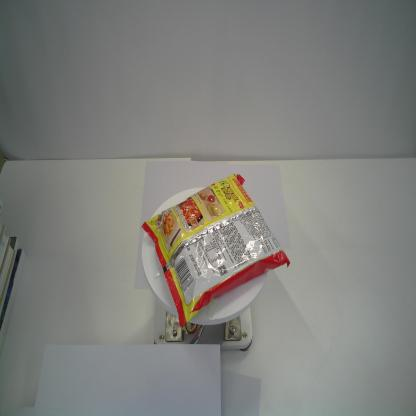Instant Noodles: (141, 172, 292, 327)
